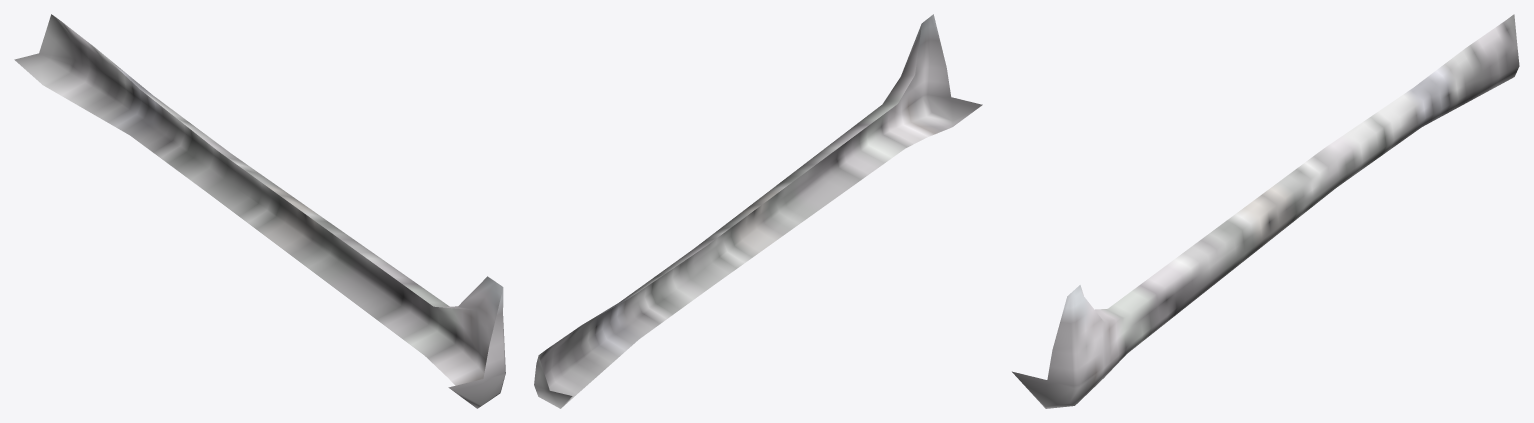
3 renders of one model, left to right at view 1: azimuth 30°, elevation 25°; view 2: azimuth 150°, elevation 25°; view 3: azimuth 330°, elevation 25°, orthographic. The views are drawn at different scales.
Visible parts, largest first — view 1: wg_r_a_j; view 2: wg_r_a_j; view 3: wg_r_a_j.
Part boxes in pixels (<box>): wg_r_a_j: <box>14,14,505,408</box>; wg_r_a_j: <box>534,14,982,408</box>; wg_r_a_j: <box>1012,14,1519,408</box>.
Size of the model in its own units: 0.1728 by 0.3153 by 2.15.
1 material, 1 textured.
